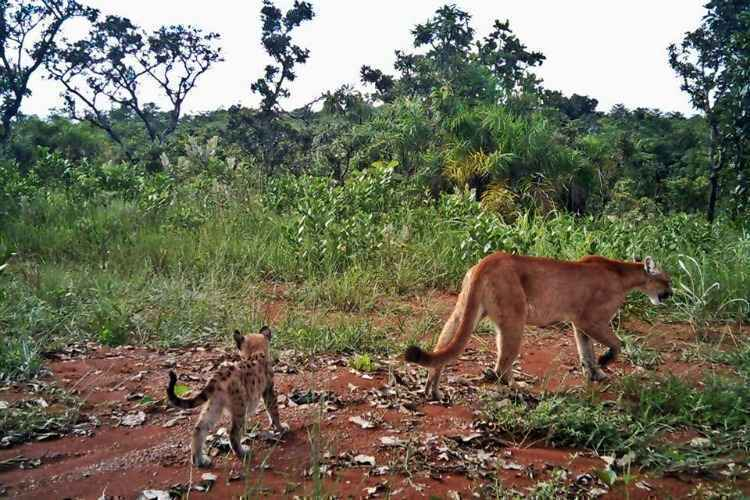OncaParda: (407, 251, 677, 393), (154, 326, 291, 472)
